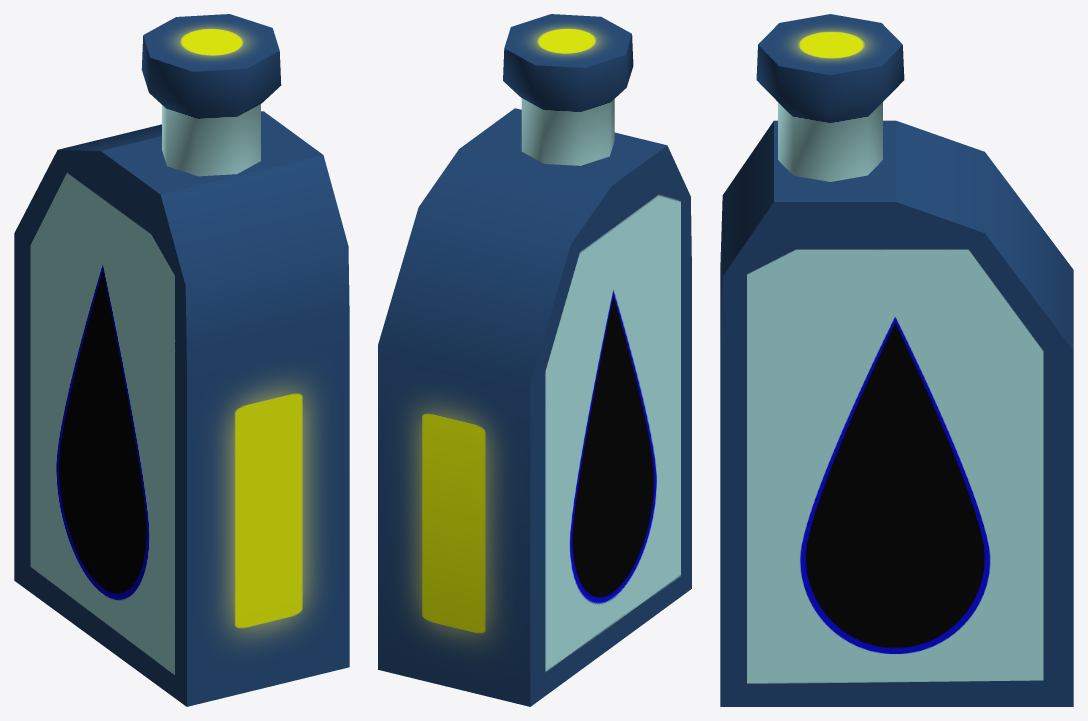
File: ITSW_Aceite.FBX
3 views of the same model, side by side, from view 1: azimuth 30°, elevation 25°; view 2: azimuth 150°, elevation 25°; view 3: azimuth 270°, elevation 25° (orthographic). The views are drawn at different scales.
Visible parts, largest first — view 1: ITSW_Aceite; view 2: ITSW_Aceite; view 3: ITSW_Aceite.
Part boxes in pixels (left/top/right/bottom): ITSW_Aceite: left=14, top=14, right=349, bottom=706; ITSW_Aceite: left=378, top=14, right=691, bottom=706; ITSW_Aceite: left=720, top=14, right=1073, bottom=706.
Size of the model in its own units: 0.2799 by 0.9945 by 0.5137.
